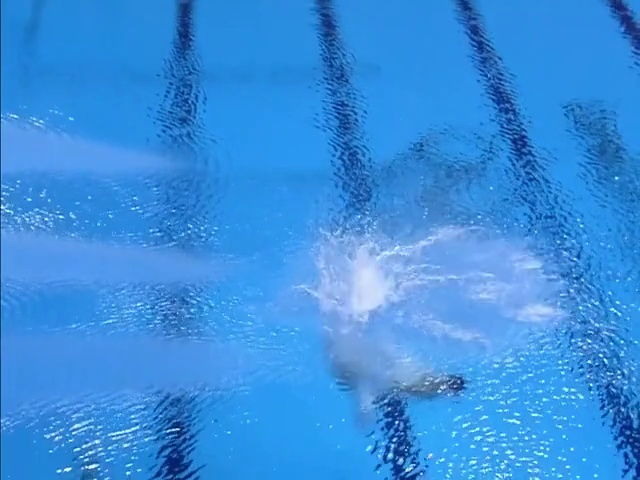splash: (290, 222, 565, 353)
